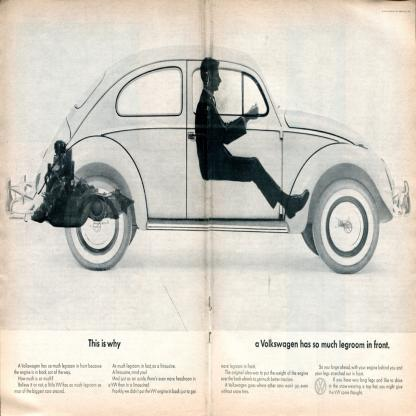Car: (5, 42, 411, 270)
